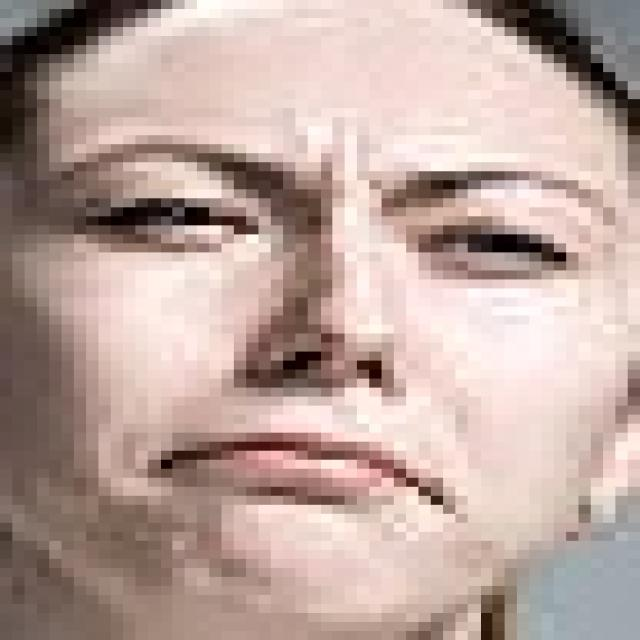Anxiety: (2, 0, 628, 631)
